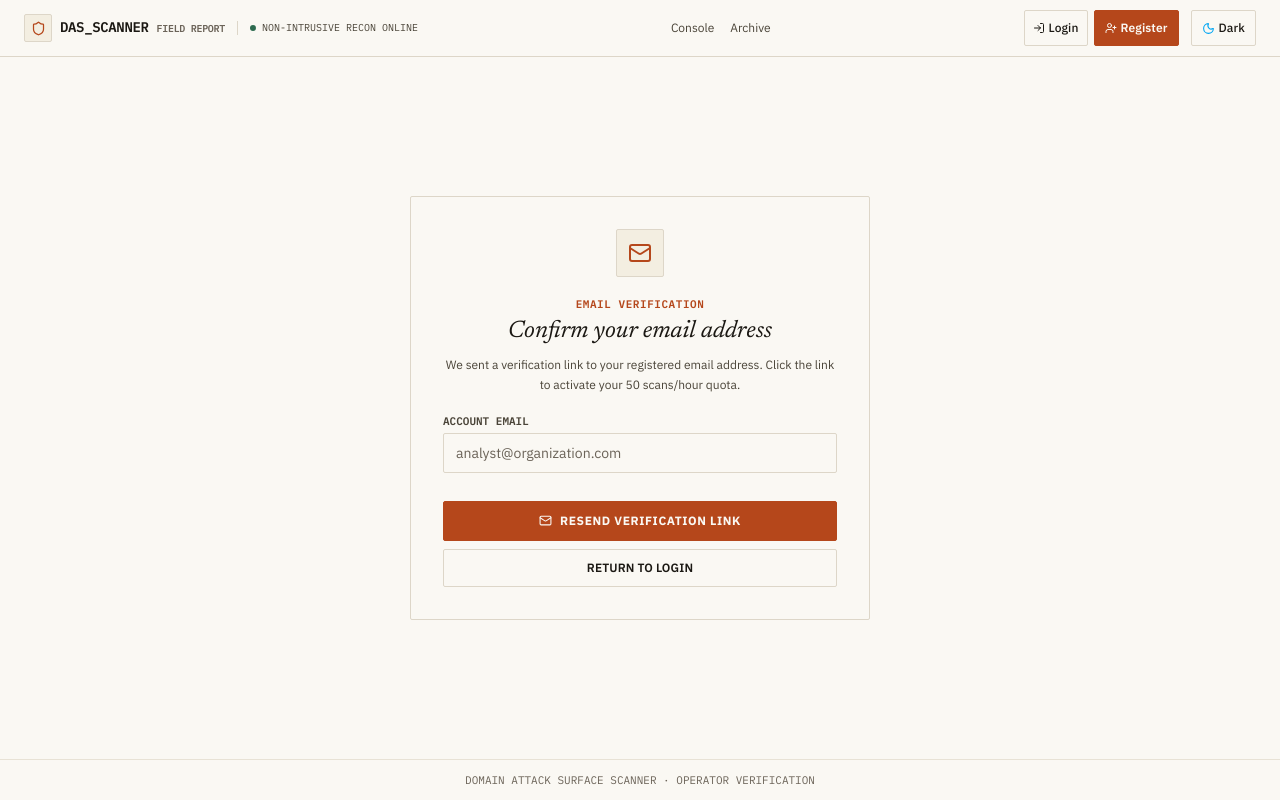
VerifyPage states and workflows › allows resending verification email from neutral state and shows success message
The width and height of the screenshot is (1280, 800).
Expected: the element with test id "verify-neutral" is shown, [443,229,837,587]
Type "analyst@domain.com" into the field labelled "Account Email" at (640, 453), box [443,433,837,473]
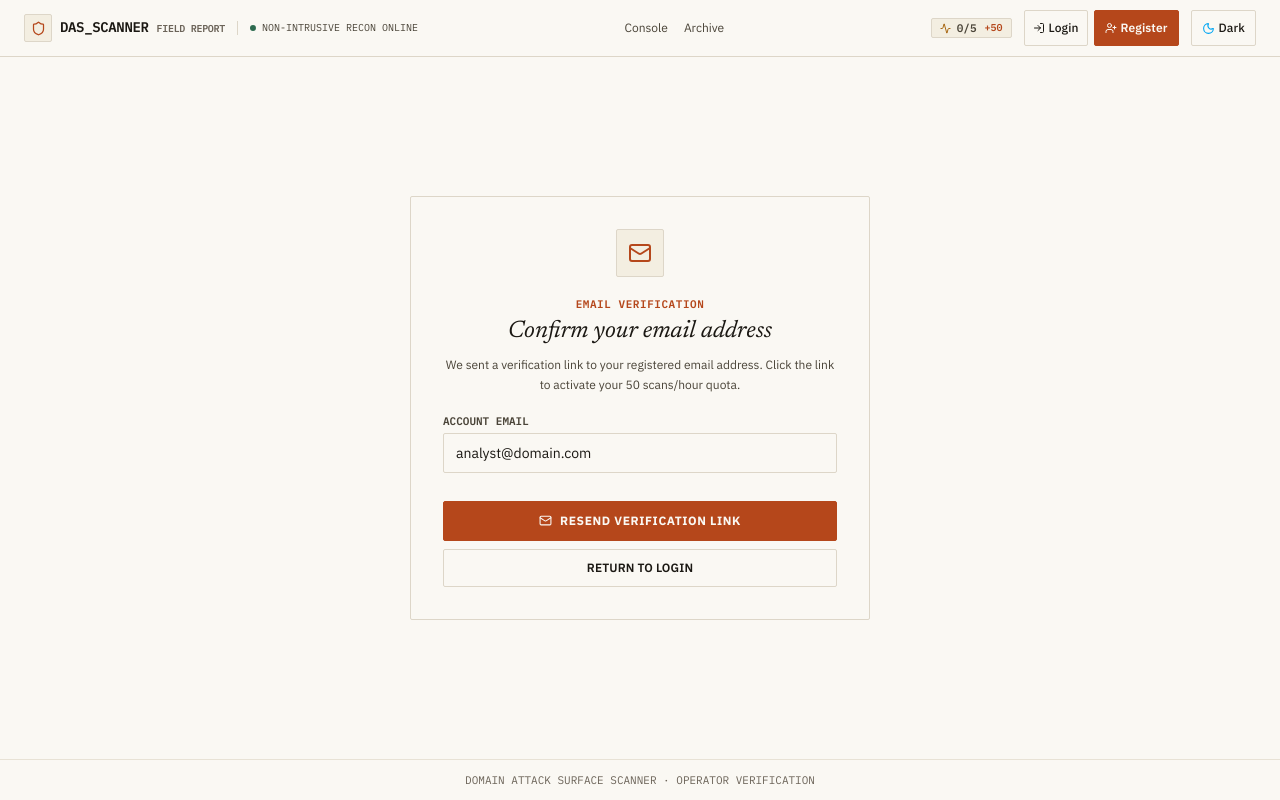
Click the button "RESEND VERIFICATION LINK" at (640, 521), box [443,501,837,541]
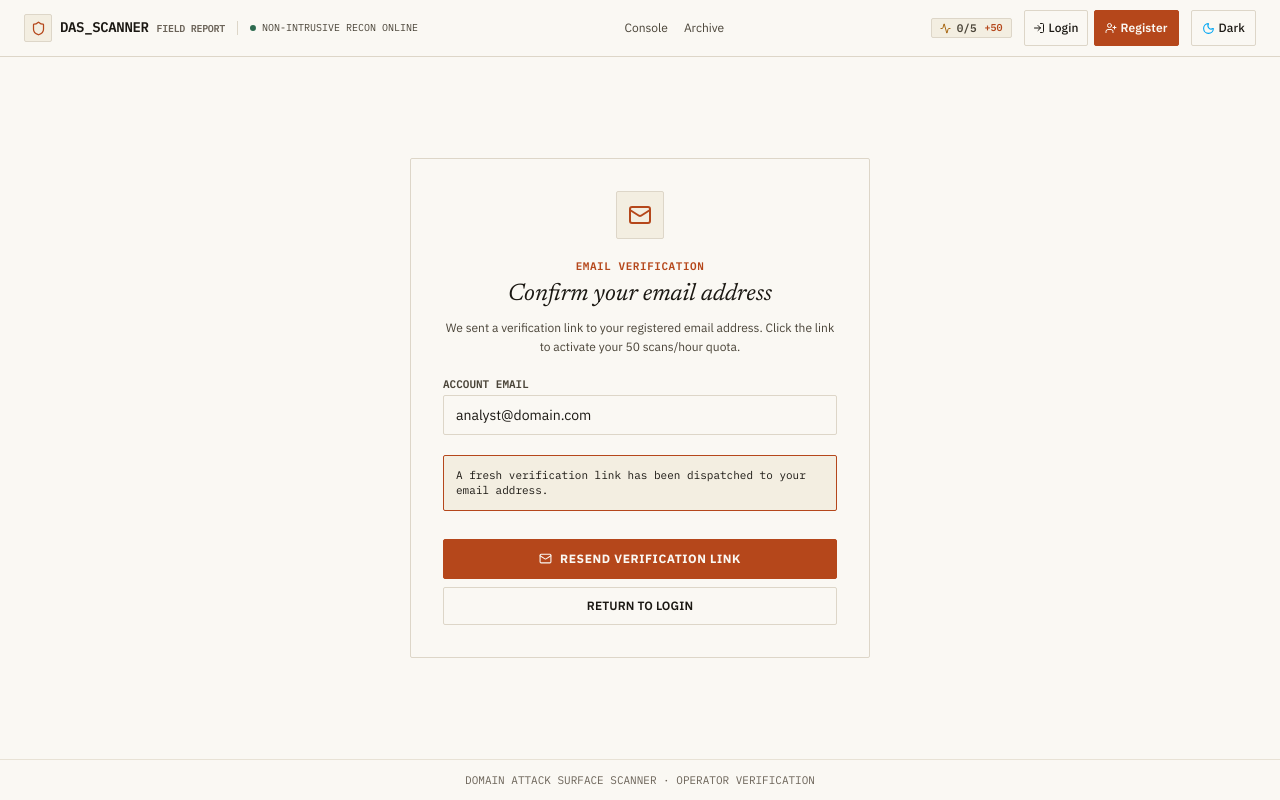
Expected: the text "A fresh verification link has been dispatched to your email address." is shown, [443,455,837,511]
